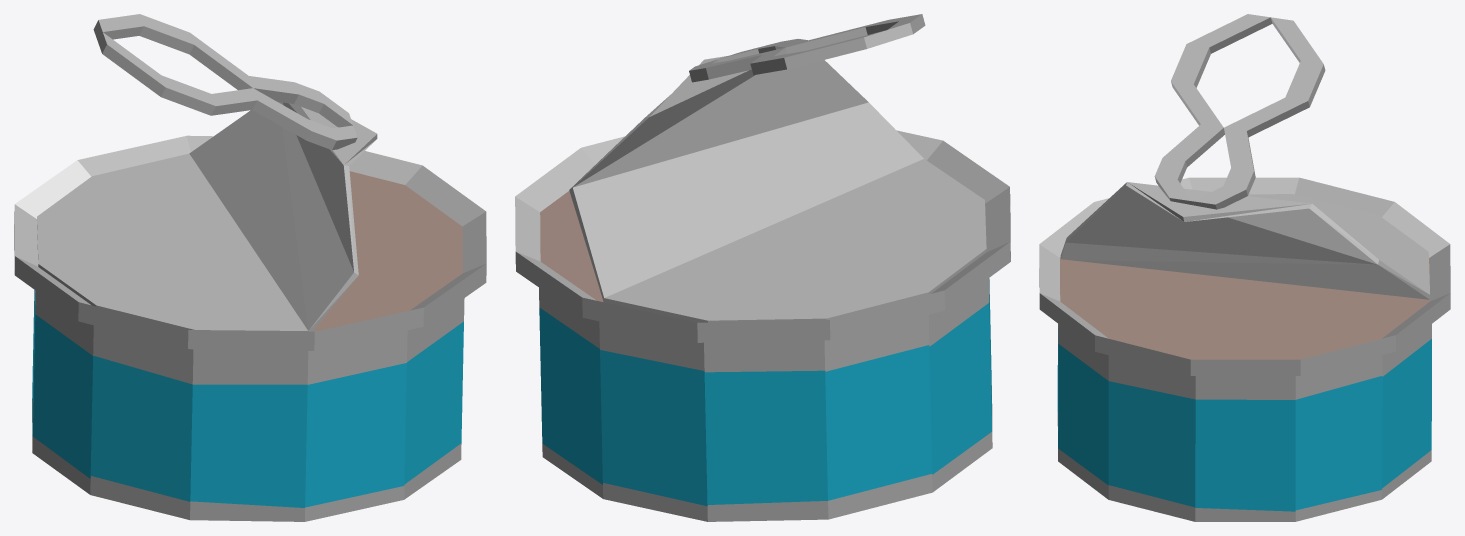
File: can_open.fbx
3 views of the same model, side by side, from view 1: azimuth 30°, elevation 25°; view 2: azimuth 150°, elevation 25°; view 3: azimuth 270°, elevation 25° (orthographic). The views are drawn at different scales.
Visible parts, largest first — view 1: model3:mesh165027230, model3:mesh558427750, model3:mesh1010671563; view 2: model3:mesh165027230, model3:mesh558427750, model3:mesh1010671563; view 3: model3:mesh165027230, model3:mesh558427750, model3:mesh1010671563.
Part boxes in pixels (x1,y1,x2,y2): model3:mesh165027230: [14, 135, 486, 521]; model3:mesh558427750: [37, 102, 377, 331]; model3:mesh1010671563: [93, 14, 357, 149]; model3:mesh165027230: [515, 130, 1010, 521]; model3:mesh558427750: [569, 56, 986, 322]; model3:mesh1010671563: [689, 14, 925, 82]; model3:mesh165027230: [1039, 177, 1450, 521]; model3:mesh558427750: [1060, 182, 1430, 299]; model3:mesh1010671563: [1154, 14, 1325, 209].
Size of the model in its own units: 11.53 by 11.48 by 11.52.
